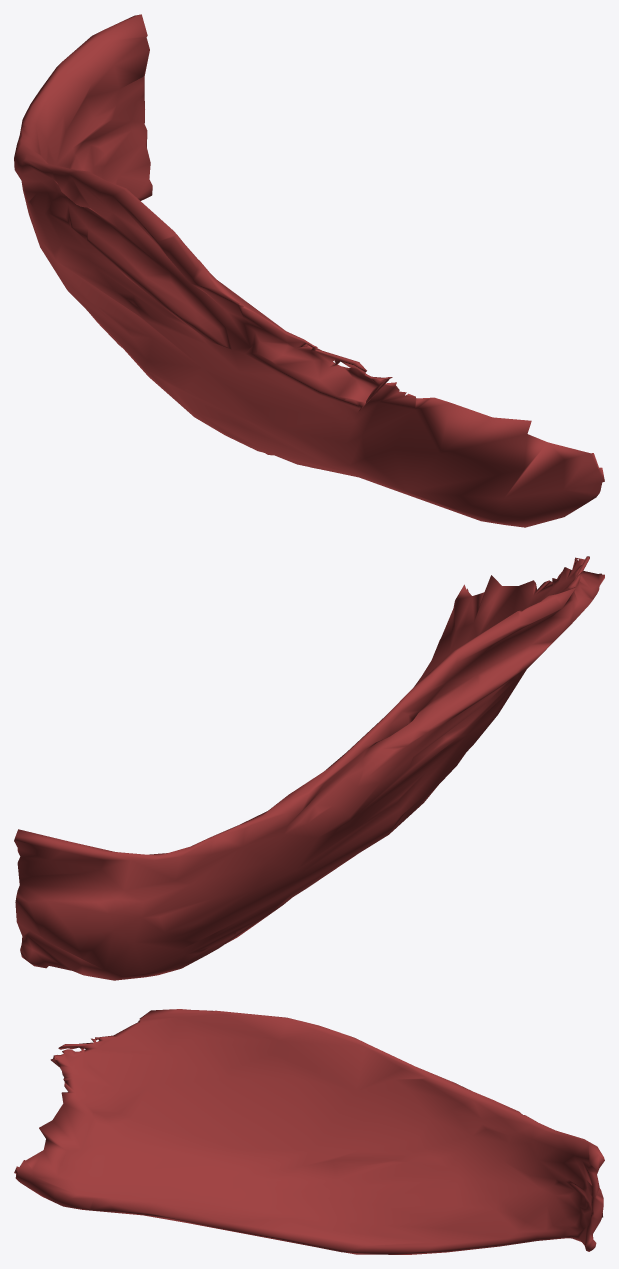
The model's file is pubo-analis-muscle-r.glb.
3 views of the same model, one above another, from view 1: azimuth 30°, elevation 25°; view 2: azimuth 150°, elevation 25°; view 3: azimuth 270°, elevation 25° (orthographic). The views are drawn at different scales.
Visible parts, largest first — view 1: Pubo-analis muscle.r; view 2: Pubo-analis muscle.r; view 3: Pubo-analis muscle.r.
Boxes of the visible parts, x1,y1,x2,y2 form: Pubo-analis muscle.r: (14, 14, 604, 527); Pubo-analis muscle.r: (14, 556, 604, 980); Pubo-analis muscle.r: (14, 1009, 604, 1254).
Bounding box in the file's own units: 0.0304 × 0.0302 × 0.0843.
